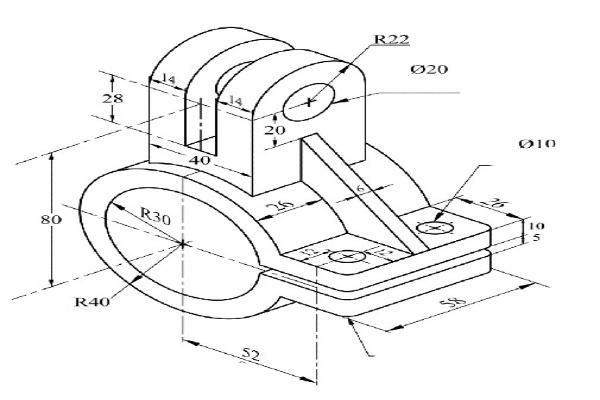dimensions: (405, 59, 456, 84), (514, 133, 564, 157), (29, 205, 67, 232), (142, 201, 176, 227), (371, 28, 411, 50), (71, 292, 114, 311), (97, 87, 127, 111), (264, 195, 297, 215), (154, 67, 183, 89), (479, 194, 513, 212), (434, 295, 470, 312), (262, 121, 291, 141), (237, 345, 267, 364), (186, 151, 213, 169), (296, 245, 322, 261), (226, 92, 245, 111), (527, 217, 549, 233), (527, 233, 549, 249), (372, 246, 394, 262), (353, 183, 372, 195)
